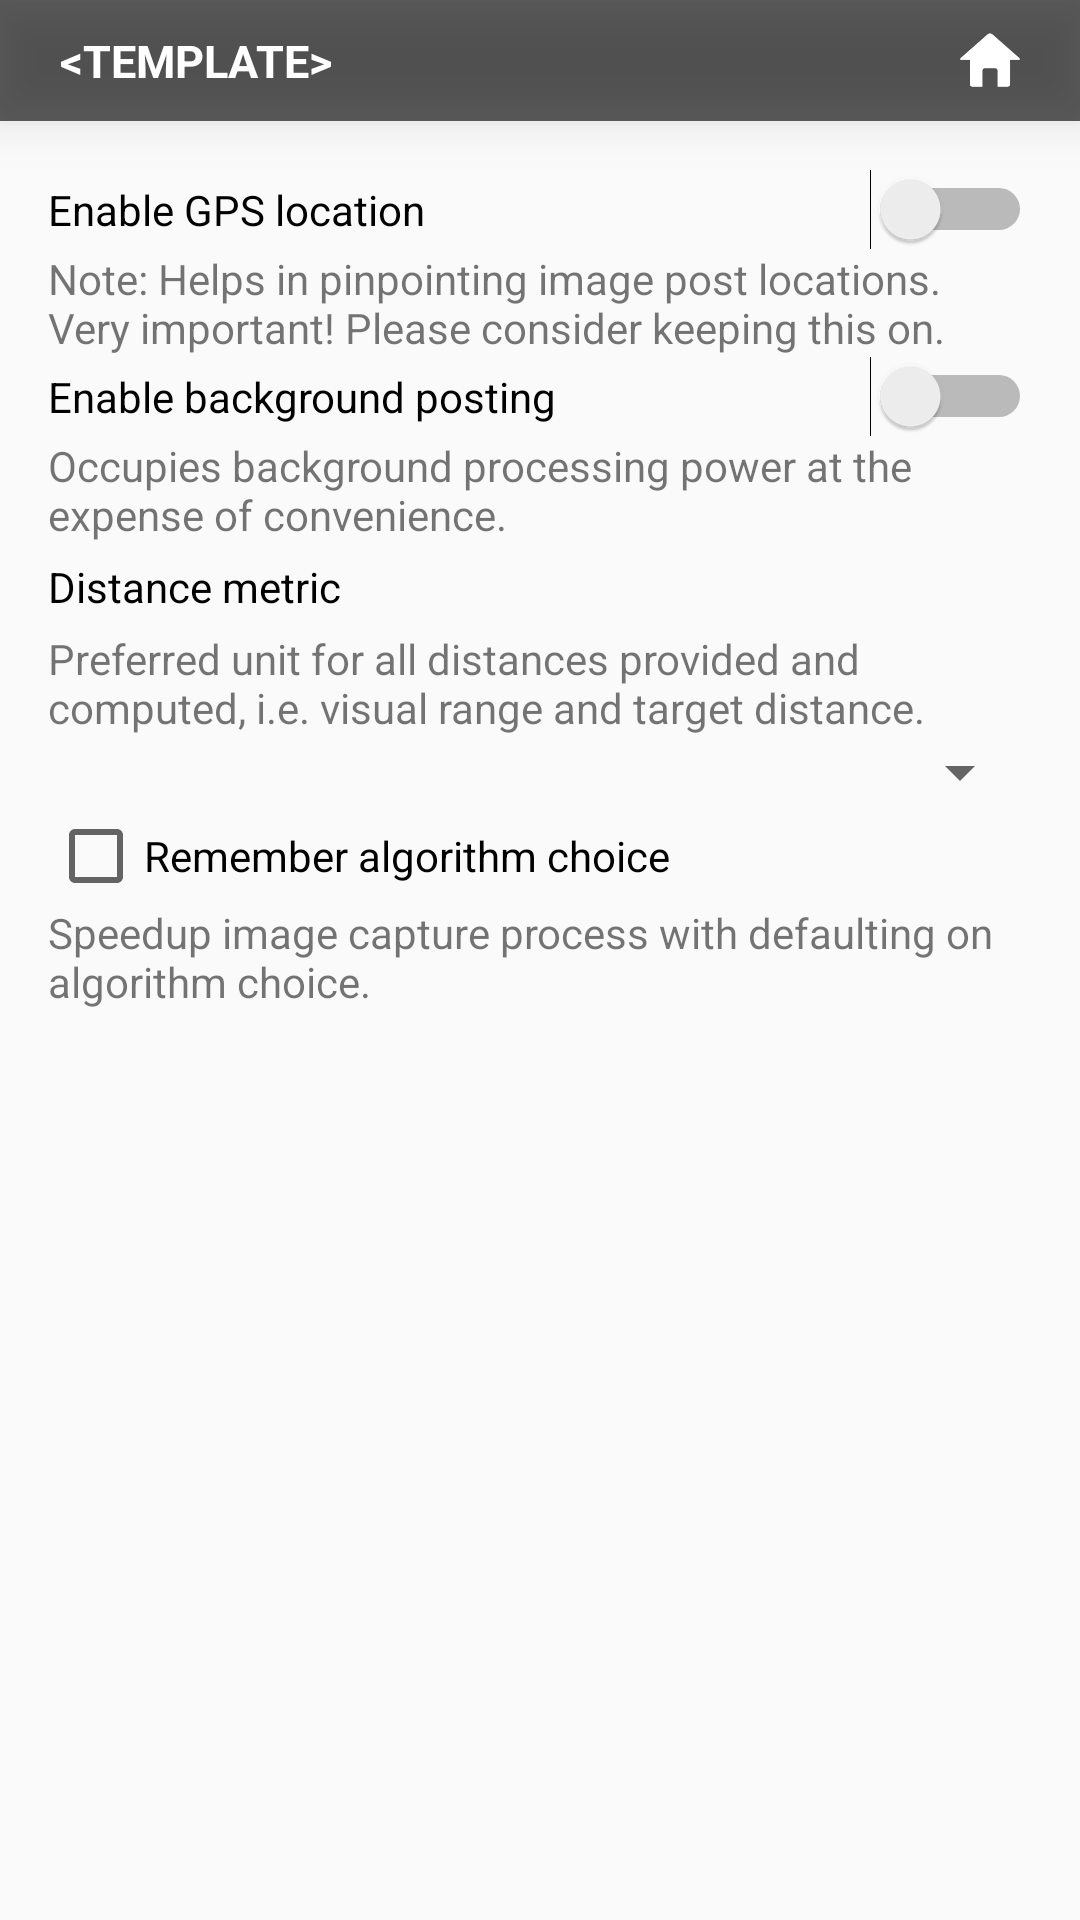

Screen size 1080×1920. Icon name, then its center in pixels as (x=x, y=y):
home: (x=990, y=60)
